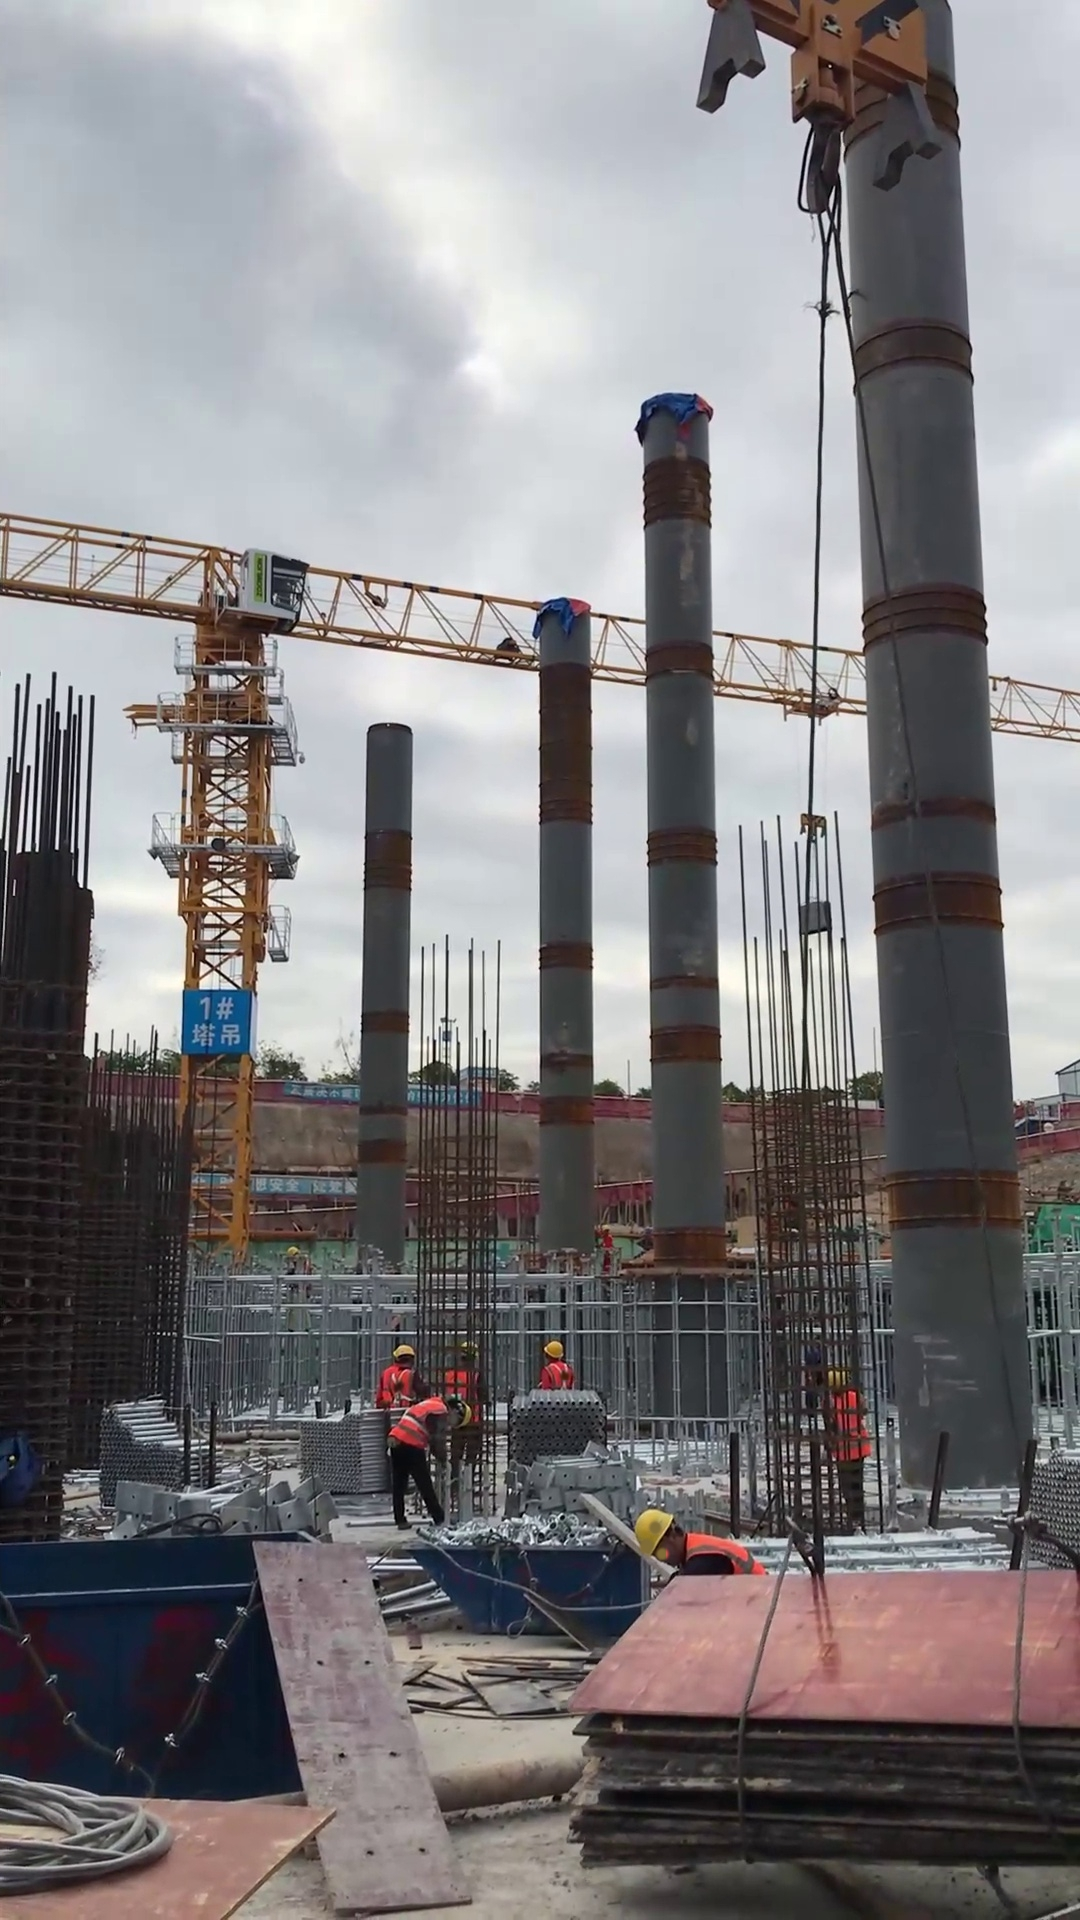board: (565, 1568, 1080, 1869)
helmet: (631, 1509, 675, 1561), (450, 1395, 473, 1429), (386, 1344, 420, 1367), (823, 1368, 848, 1392), (544, 1335, 567, 1359), (457, 1339, 482, 1359), (285, 1242, 300, 1258), (599, 1223, 613, 1232)
hook: (695, 1, 946, 217), (799, 810, 829, 847)
hopper: (1, 1526, 338, 1801), (397, 1528, 655, 1639)
person: (385, 1394, 474, 1531), (632, 1508, 771, 1576), (441, 1338, 492, 1503), (823, 1367, 871, 1538), (375, 1344, 432, 1408), (539, 1336, 576, 1390), (598, 1220, 616, 1278)
scaffold: (97, 1395, 226, 1508), (747, 1528, 1049, 1572), (296, 1408, 393, 1495), (506, 1388, 609, 1469), (1022, 1443, 1080, 1570)
slogan: (178, 987, 252, 1057), (286, 1082, 482, 1108), (190, 1169, 359, 1196)
vest: (680, 1530, 767, 1578), (386, 1395, 448, 1450), (826, 1390, 872, 1463), (441, 1365, 486, 1428), (378, 1364, 419, 1408), (542, 1357, 574, 1390), (601, 1234, 612, 1249)
